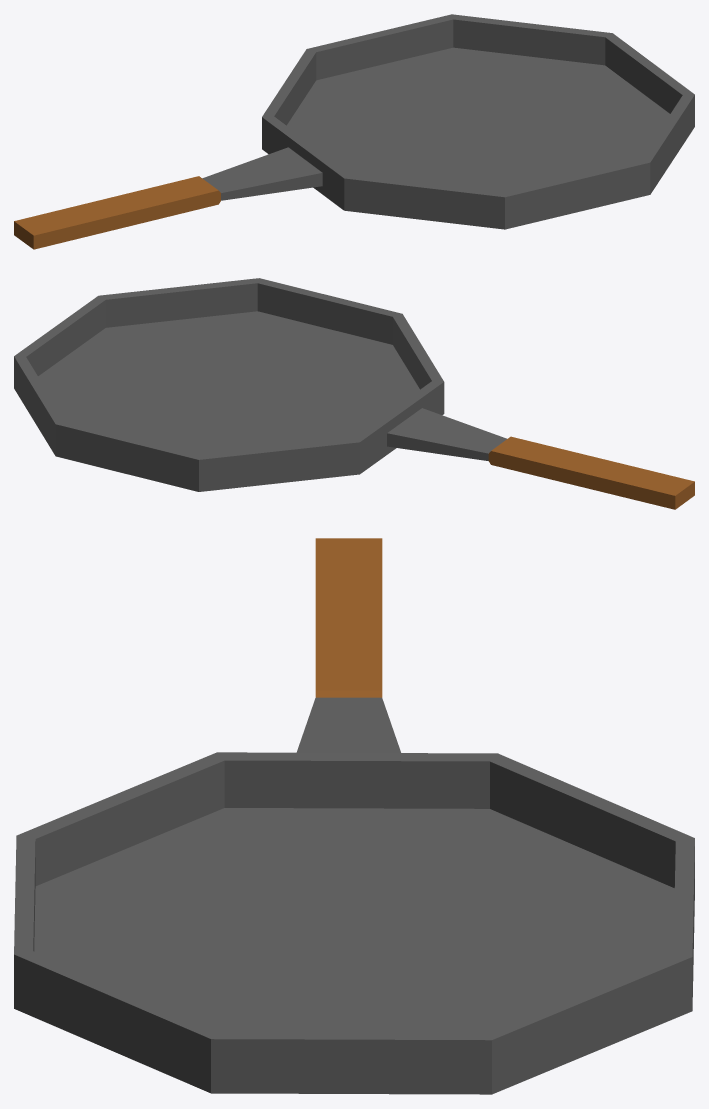
File: Pan-Lowpoly.fbx
The picture shows the model from 3 angles, top to bottom: view 1: azimuth 30°, elevation 25°; view 2: azimuth 150°, elevation 25°; view 3: azimuth 270°, elevation 25°; orthographic projection. The views are drawn at different scales.
Parts seen in each view (by area): view 1: Pan; view 2: Pan; view 3: Pan.
Part boxes in pixels (x1,y1,x2,y2): Pan: (14,14,694,249); Pan: (14,278,694,509); Pan: (14,538,694,1094).
Size of the model in its own units: 334 by 16.33 by 185.
